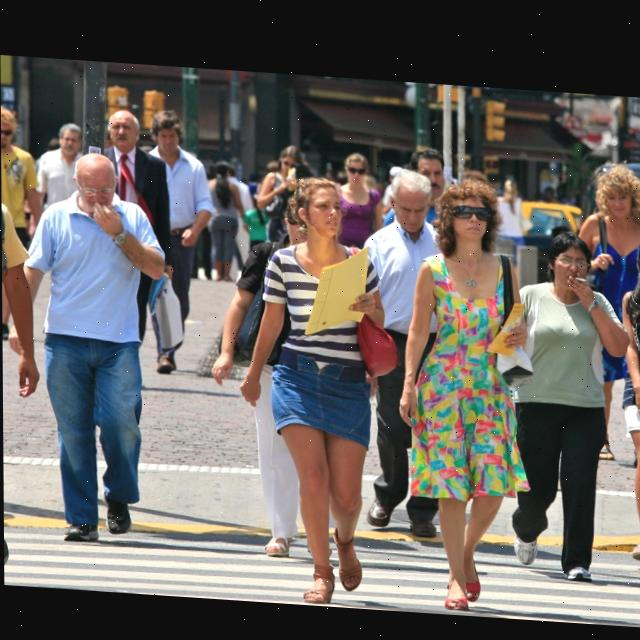cigarette: (574, 269, 587, 274)
